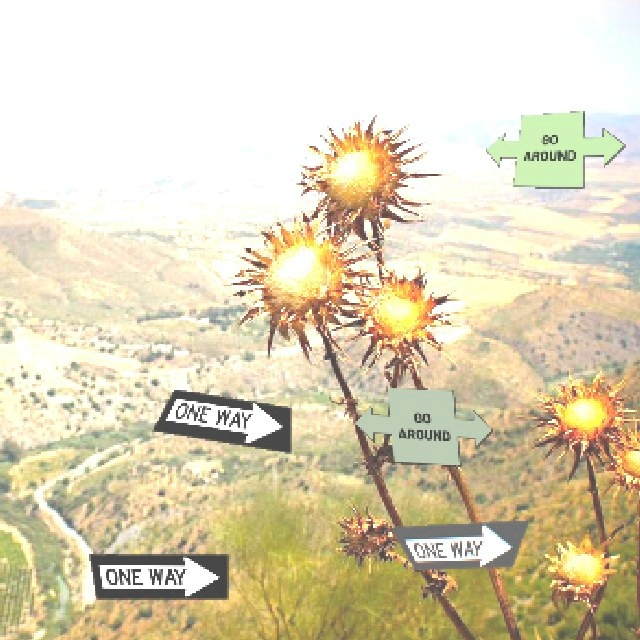GO_AROUND: (352, 385, 492, 465), (484, 109, 624, 187)
ONE_WAY_ right: (150, 387, 290, 452), (388, 518, 528, 569), (87, 552, 227, 598)
